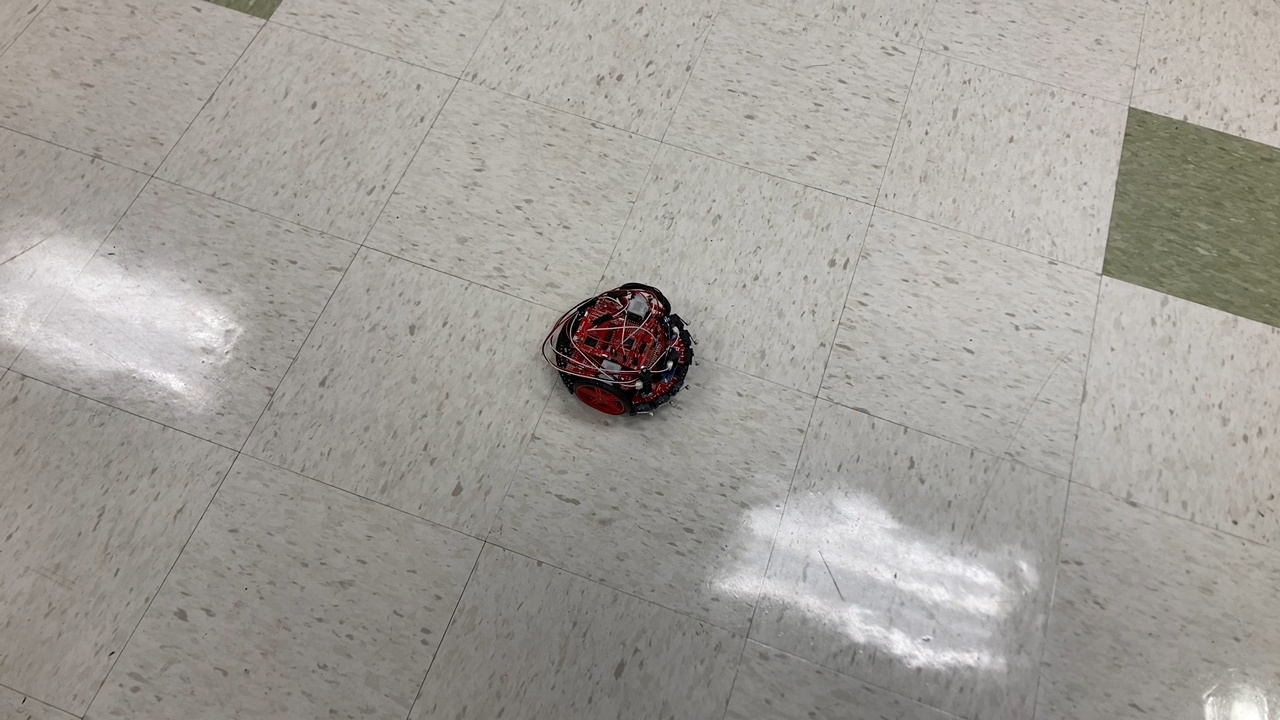robot: (538, 280, 706, 425)
